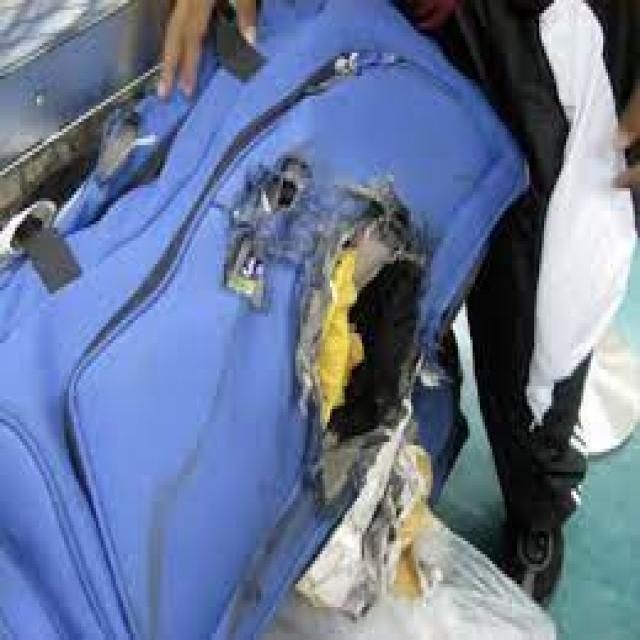Damage-bag: (224, 151, 440, 617)
